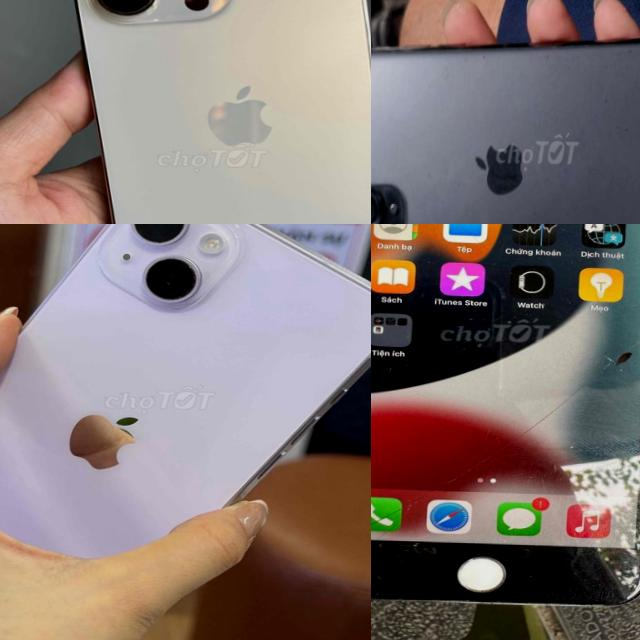gen_11: (371, 35, 640, 224)
gen_14: (0, 224, 371, 585), (52, 0, 371, 224)
gen_7_8: (371, 224, 640, 614)
physical_damage: (371, 316, 640, 558)
scratch: (454, 560, 540, 594), (593, 568, 637, 598)
